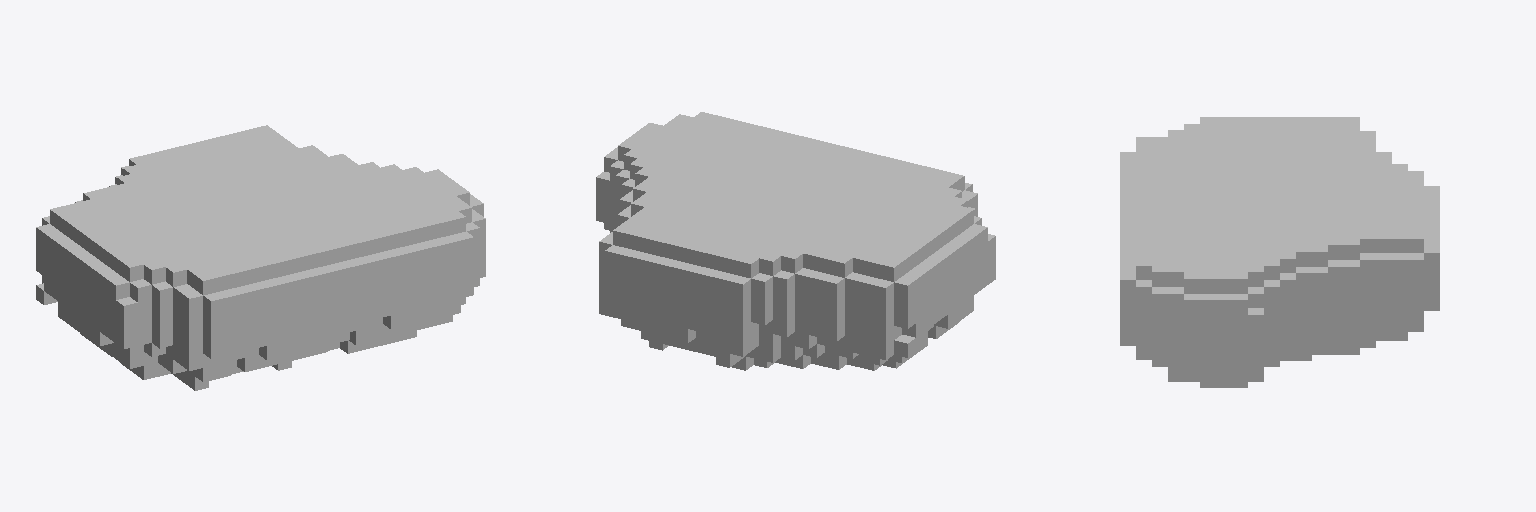
The model's file is ground13.obj.
3 views of the same model, side by side, from view 1: azimuth 30°, elevation 25°; view 2: azimuth 150°, elevation 25°; view 3: azimuth 270°, elevation 25° (orthographic).
Parts seen in each view (by area): view 1: ObjObject.012; view 2: ObjObject.012; view 3: ObjObject.012.
Part boxes in pixels (x1,y1,x2,y2): ObjObject.012: (36, 125, 485, 390); ObjObject.012: (596, 112, 995, 370); ObjObject.012: (1120, 117, 1439, 387).
Size of the model in its own units: 2.6 by 0.8 by 2.